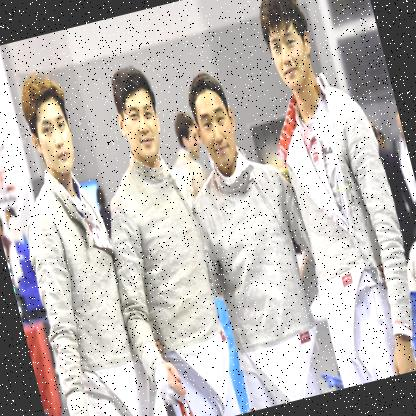fencer: (230, 0, 415, 392), (63, 48, 255, 415), (157, 46, 342, 410), (0, 59, 171, 415)
